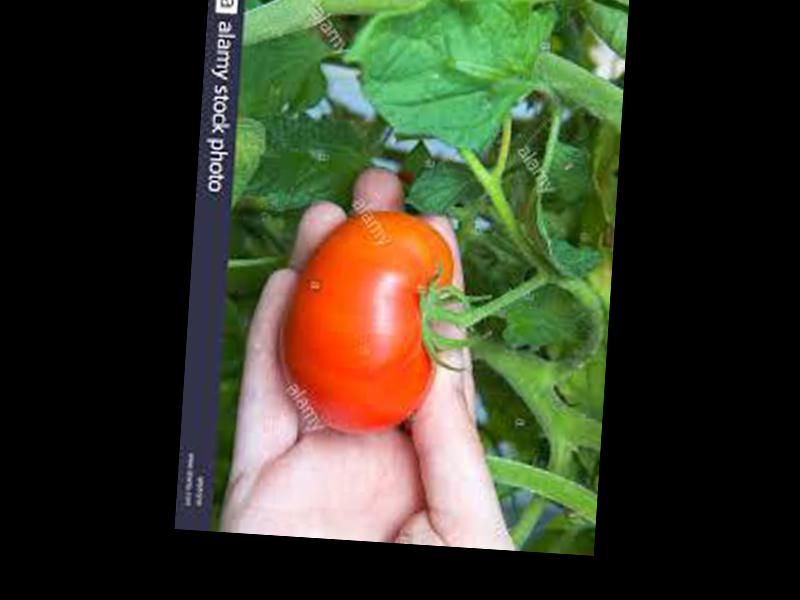Tomato: (279, 205, 456, 440)
